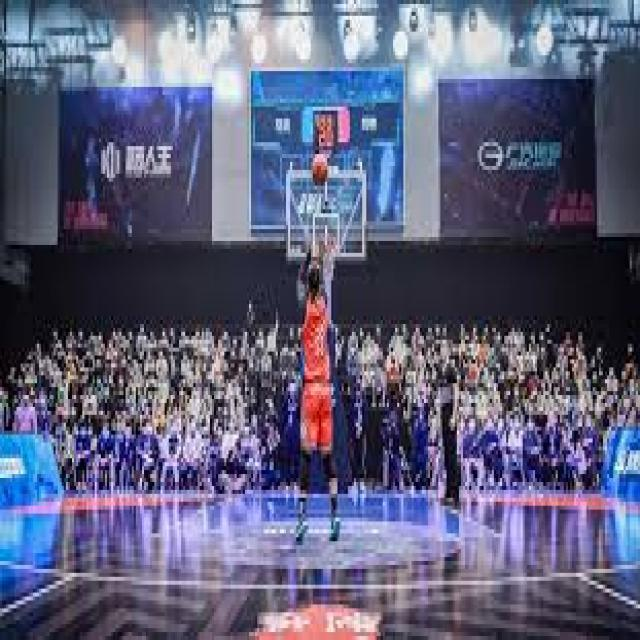rim: (312, 150, 328, 186)
